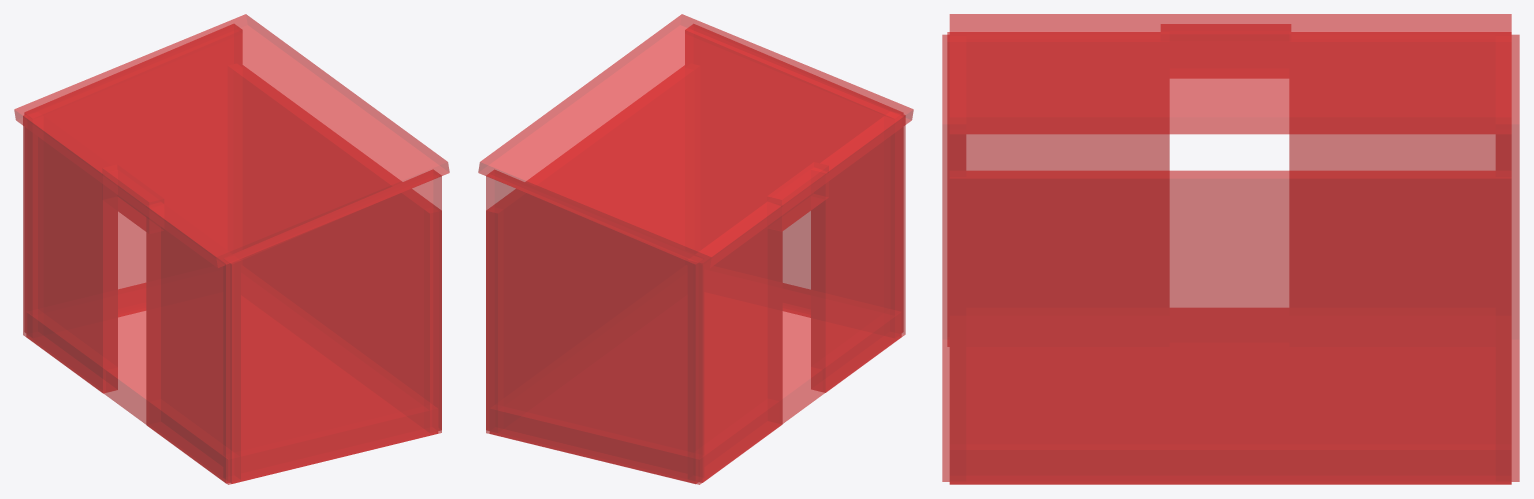
File: SM_Bld_SmallBuilding_01_C_Collision.fbx
3 renders of one model, left to right at view 1: azimuth 30°, elevation 25°; view 2: azimuth 150°, elevation 25°; view 3: azimuth 270°, elevation 25°, orthographic. The views are drawn at different scales.
Parts seen in each view (by area): view 1: SM_Bld_SmallBuilding_01_C_Collision; view 2: SM_Bld_SmallBuilding_01_C_Collision; view 3: SM_Bld_SmallBuilding_01_C_Collision.
Boxes of the visible parts, bbox=[...] form: SM_Bld_SmallBuilding_01_C_Collision: bbox=[14, 14, 449, 484]; SM_Bld_SmallBuilding_01_C_Collision: bbox=[478, 14, 913, 484]; SM_Bld_SmallBuilding_01_C_Collision: bbox=[942, 14, 1519, 484].
Size of the model in its own units: 329 by 362 by 506.
